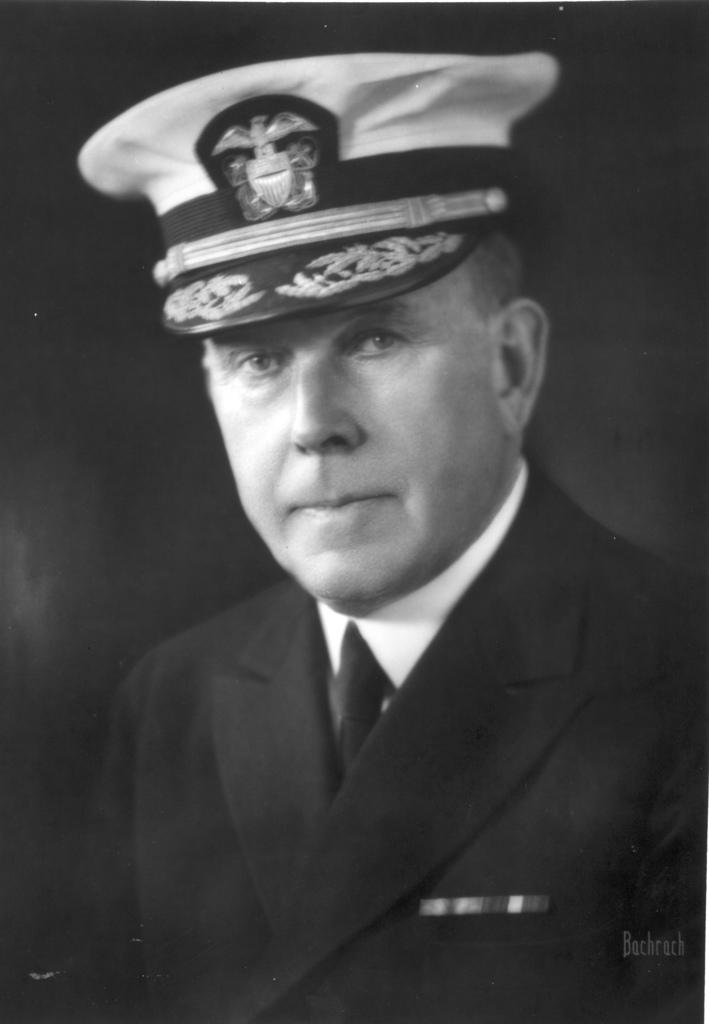Hat: (74, 50, 564, 338)
